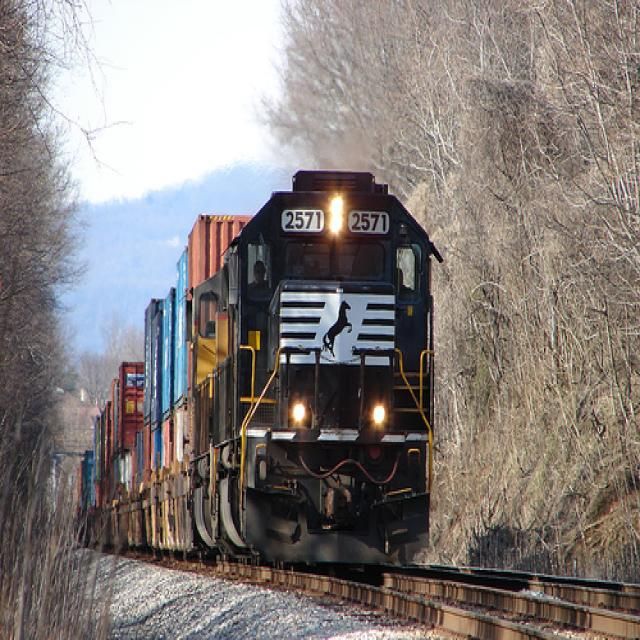train: (74, 168, 436, 568)
